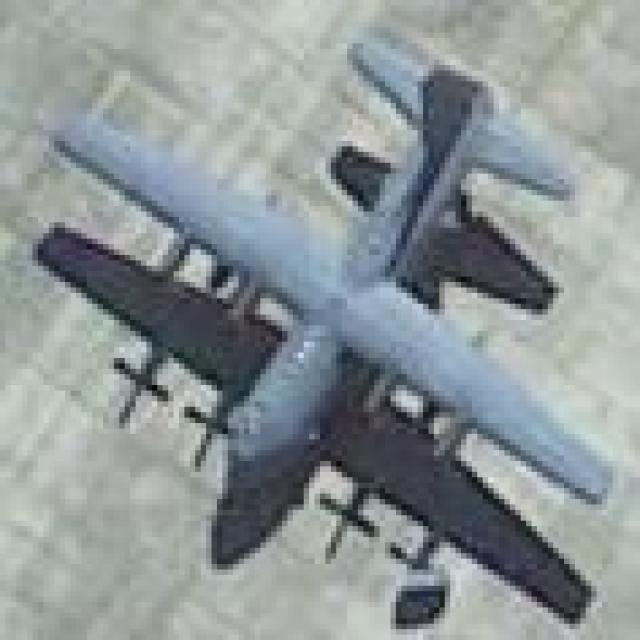C-130_TopDown: (30, 30, 614, 638)
